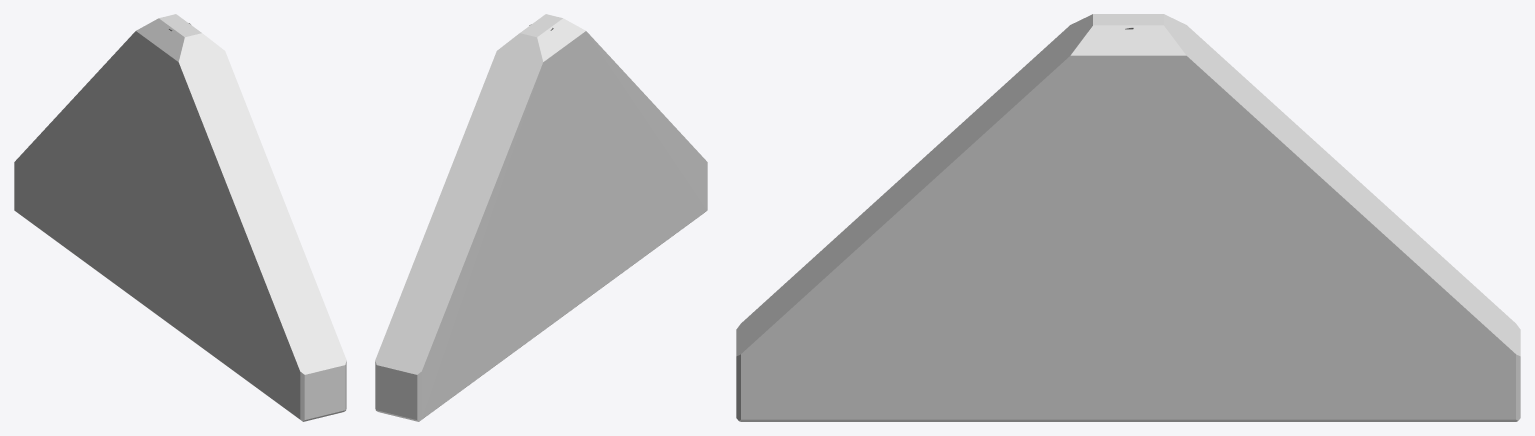
File: SM_wall_deco_01.fbx
3 renders of one model, left to right at view 1: azimuth 30°, elevation 25°; view 2: azimuth 150°, elevation 25°; view 3: azimuth 270°, elevation 25°, orthographic. The views are drawn at different scales.
Visible parts, largest first — view 1: SM_wall_deco_01_ConvexHulls; view 2: SM_wall_deco_01_ConvexHulls; view 3: SM_wall_deco_01_ConvexHulls.
Boxes of the visible parts, bbox=[...] form: SM_wall_deco_01_ConvexHulls: bbox=[14, 14, 346, 421]; SM_wall_deco_01_ConvexHulls: bbox=[375, 14, 707, 421]; SM_wall_deco_01_ConvexHulls: bbox=[736, 14, 1520, 421].
Size of the model in its own units: 92.25 by 994 by 544.
